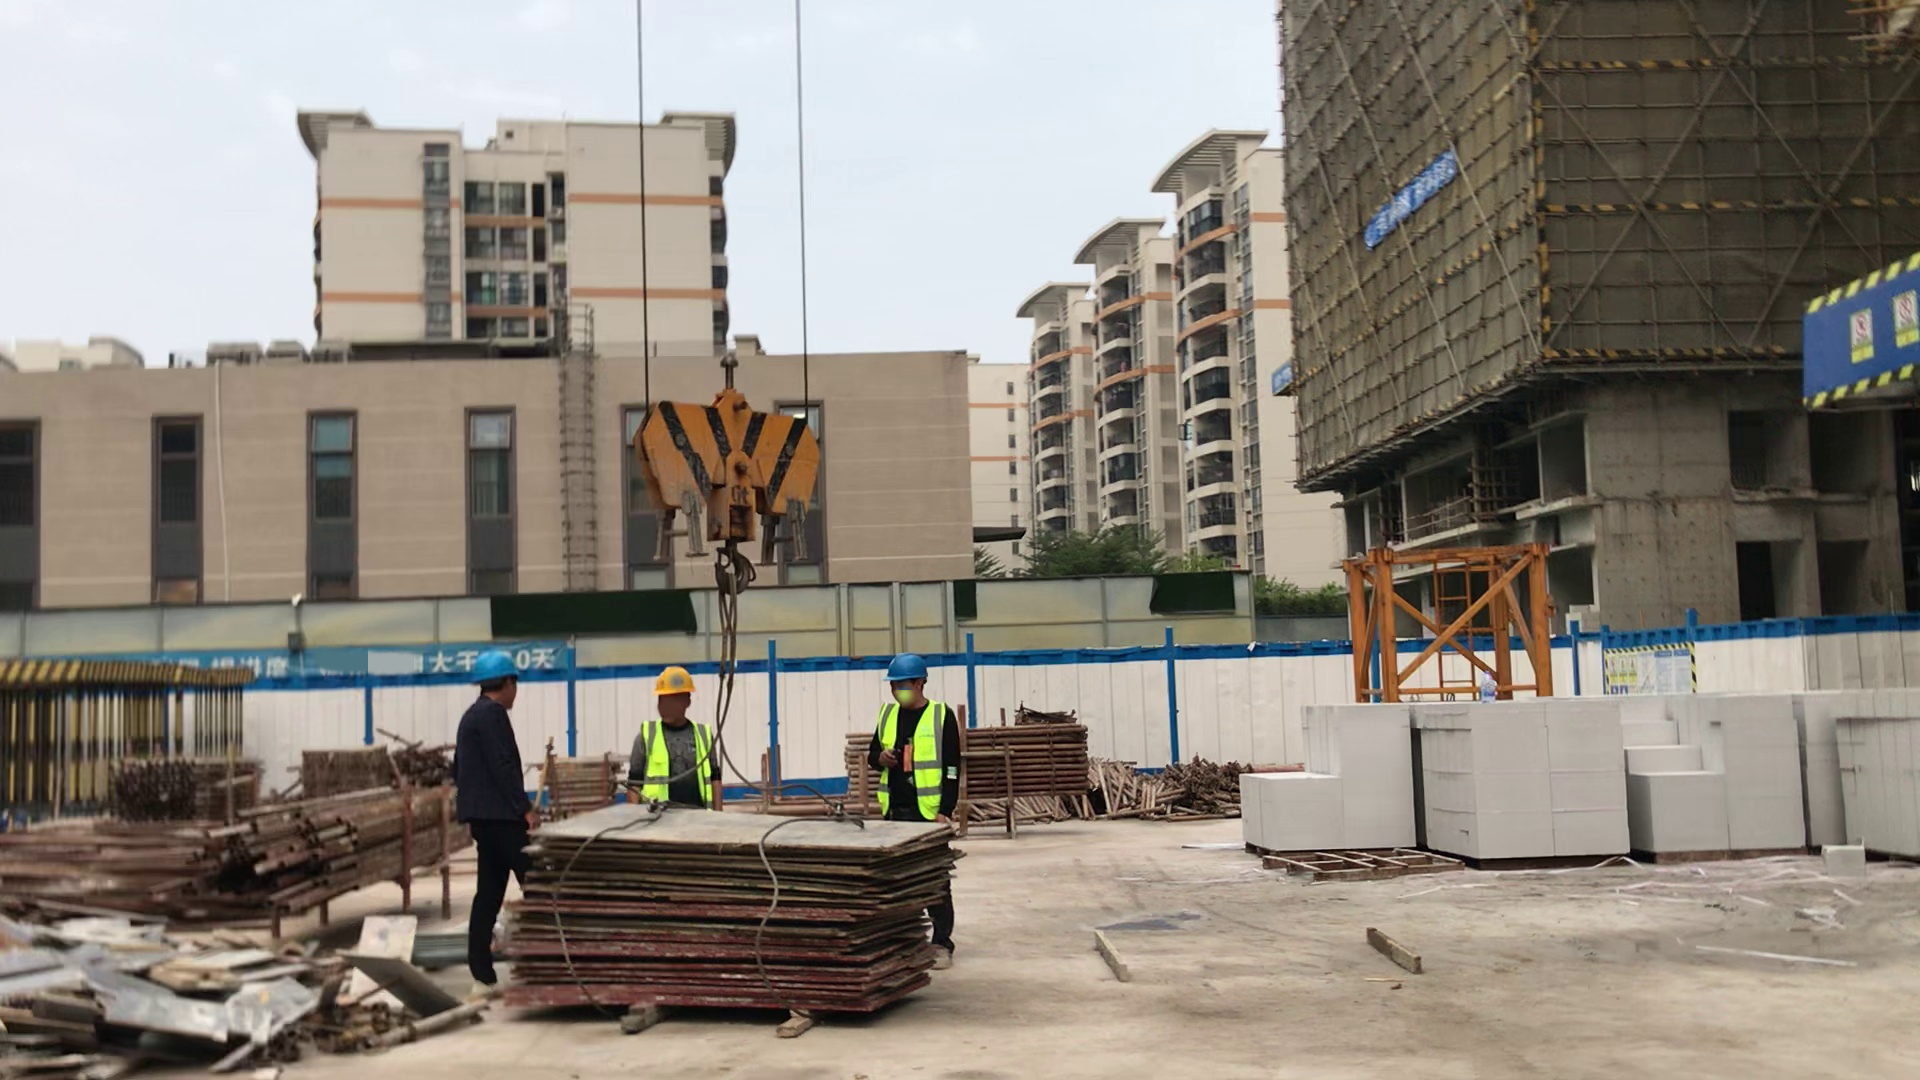board: (514, 796, 961, 1028), (1, 891, 441, 1051)
brick: (1241, 683, 1920, 870)
helmet: (469, 653, 524, 683), (649, 666, 699, 698), (879, 651, 929, 681)
hook: (630, 334, 827, 551)
person: (863, 649, 964, 972), (457, 651, 542, 991), (626, 662, 729, 813)
vest: (865, 697, 951, 813), (632, 718, 718, 806)
